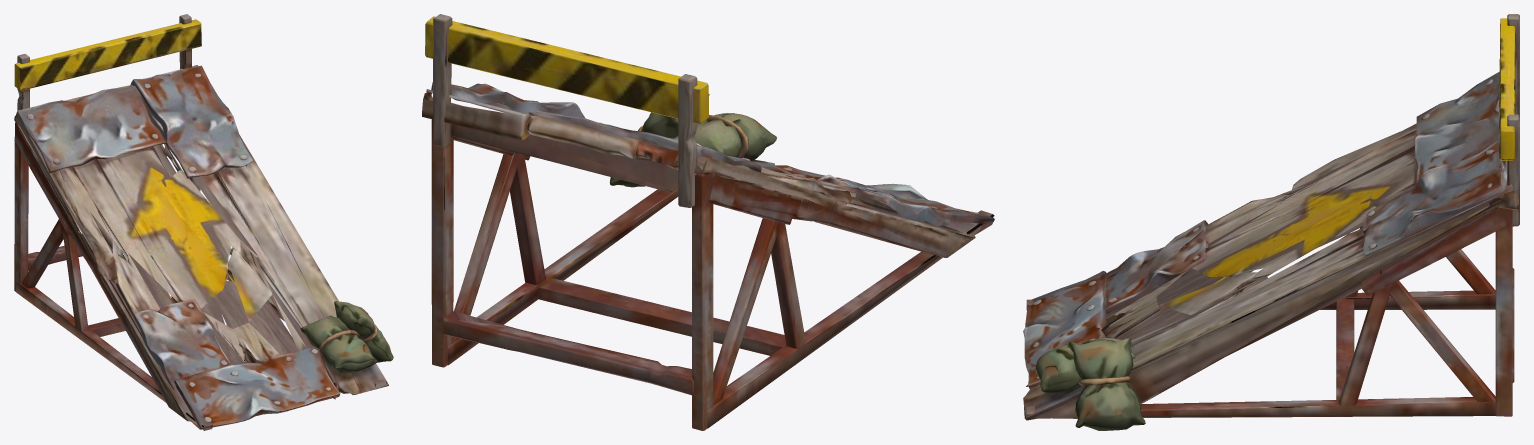
File: Ramp.glb
The picture shows the model from 3 angles, left to right: view 1: azimuth 30°, elevation 25°; view 2: azimuth 150°, elevation 25°; view 3: azimuth 270°, elevation 25°; orthographic projection. The views are drawn at different scales.
Visible parts, largest first — view 1: geometry_0; view 2: geometry_0; view 3: geometry_0.
Boxes of the visible parts, left/top/right/bottom form: geometry_0: left=14, top=14, right=393, bottom=430; geometry_0: left=422, top=14, right=994, bottom=430; geometry_0: left=1023, top=14, right=1519, bottom=430.
Bounding box in the file's own units: 0.604 × 0.6274 × 0.9507.
Materials: 1 (1 with a texture image).
